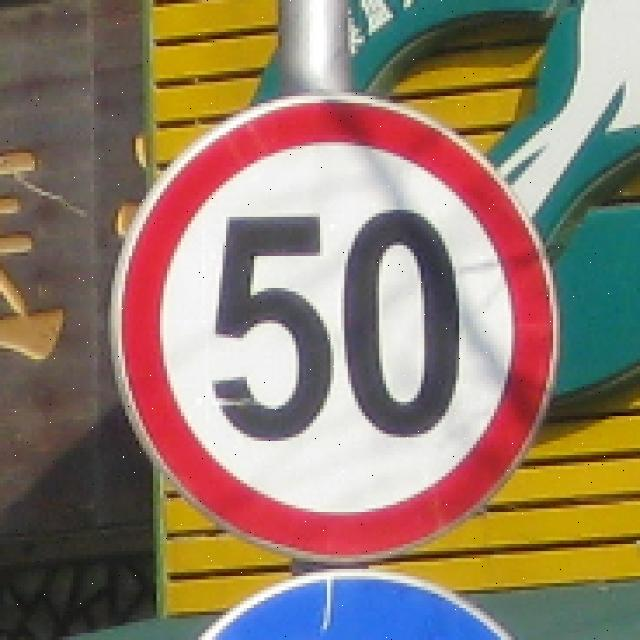speed limit 50: (111, 94, 560, 566)
